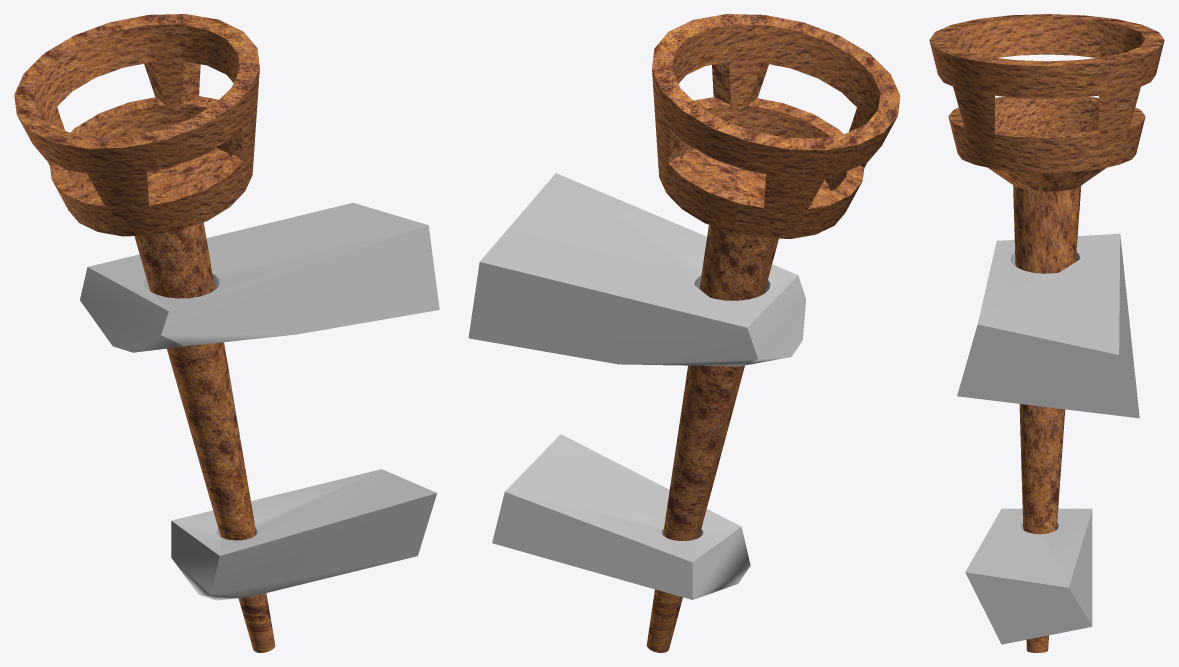
Rendered from simple.fbx.
The picture shows the model from 3 angles, left to right: view 1: azimuth 30°, elevation 25°; view 2: azimuth 150°, elevation 25°; view 3: azimuth 270°, elevation 25°; orthographic projection. The views are drawn at different scales.
Parts seen in each view (by area): view 1: Holder, Torch; view 2: Holder, Torch; view 3: Torch, Holder.
Part boxes in pixels (x1,y1,x2,y2): Holder: (80,202,439,600); Torch: (14,14,275,652); Holder: (468,173,805,599); Torch: (646,14,900,652); Torch: (929,14,1164,652); Holder: (957,233,1139,644).
Bounding box in the file's own units: 0.9597 × 1.56 × 0.575.
